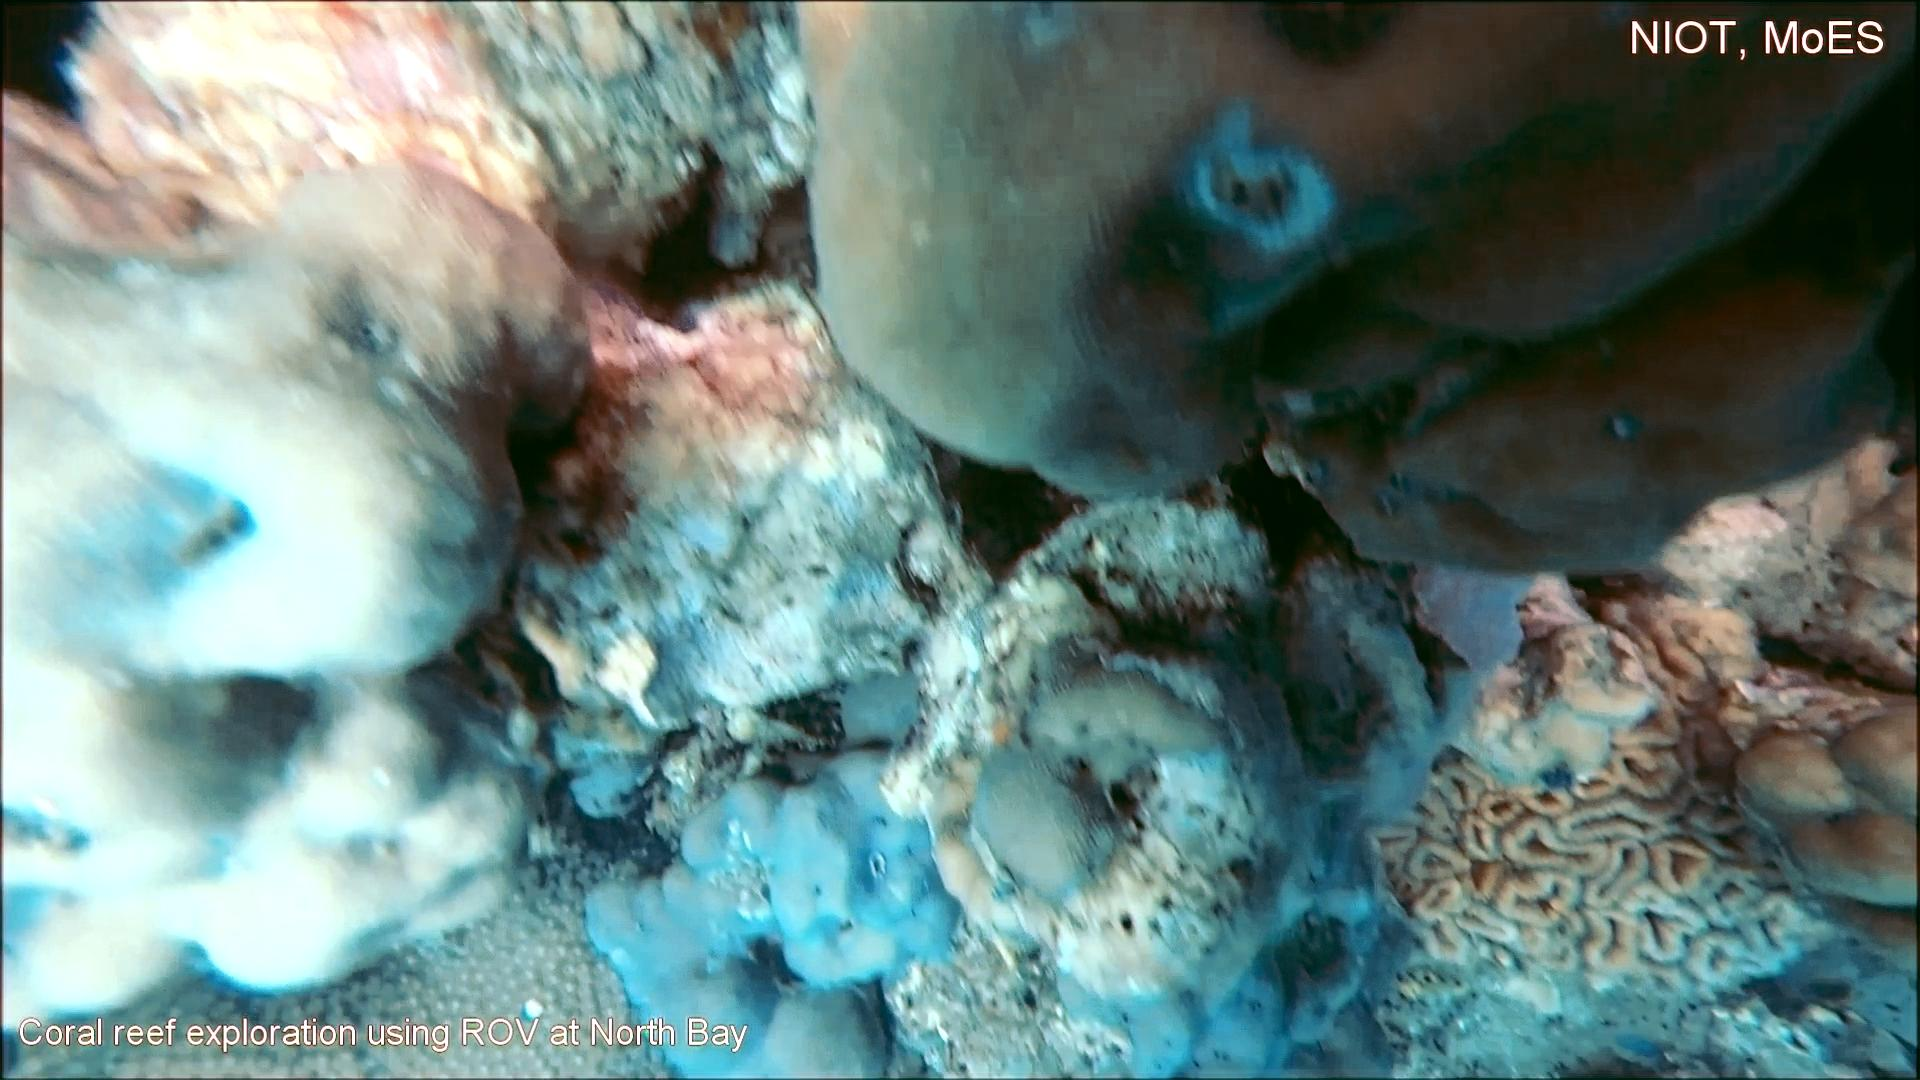Lobophyllia: (1374, 585, 1836, 1009)
